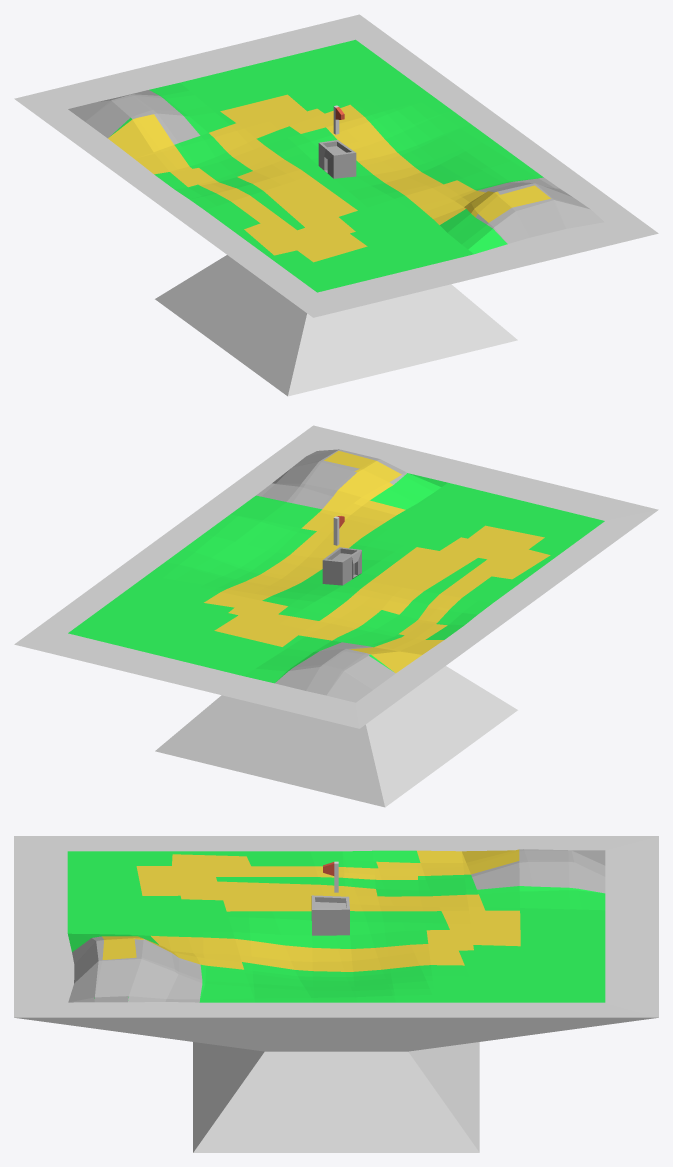
File: stol.fbx
The picture shows the model from 3 angles, top to bottom: view 1: azimuth 30°, elevation 25°; view 2: azimuth 150°, elevation 25°; view 3: azimuth 270°, elevation 25°; orthographic projection. The views are drawn at different scales.
Visible parts, largest first — view 1: Cube; view 2: Cube; view 3: Cube.
Part boxes in pixels (x1,y1,x2,y2): Cube: (14,14,658,396); Cube: (14,425,658,807); Cube: (14,836,658,1152).
Size of the model in its own units: 300 by 177 by 450.
